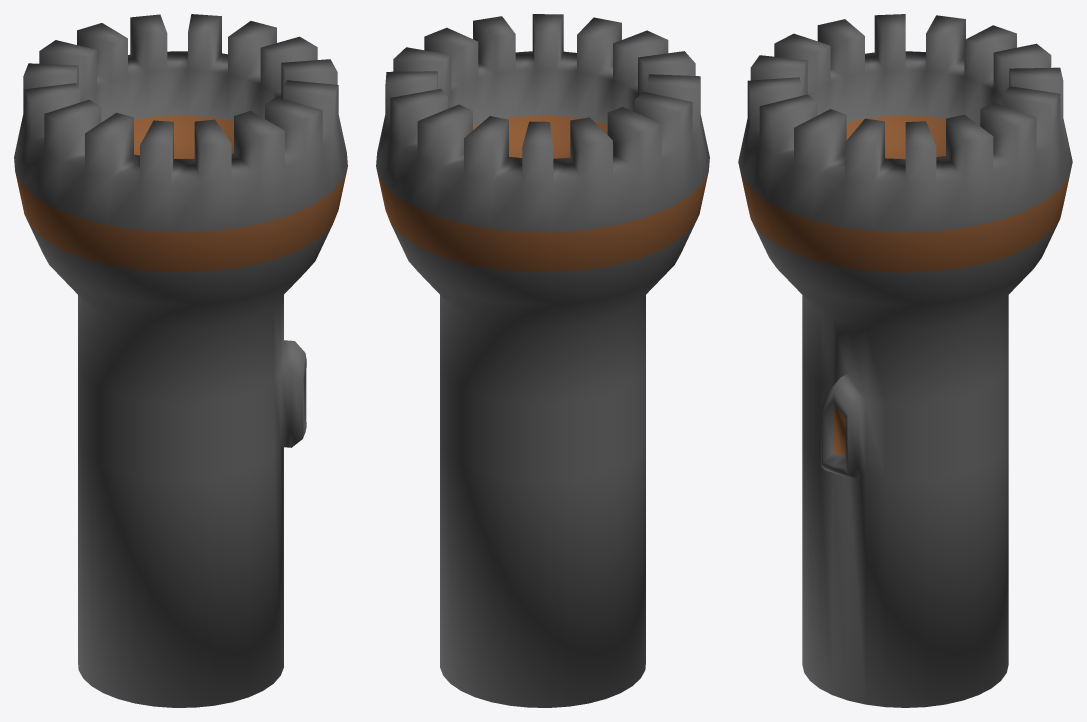
The model's file is tower.fbx.
3 renders of one model, left to right at view 1: azimuth 30°, elevation 25°; view 2: azimuth 150°, elevation 25°; view 3: azimuth 270°, elevation 25°, orthographic.
Visible parts, largest first — view 1: Cylinder; view 2: Cylinder; view 3: Cylinder.
Boxes of the visible parts, x1,y1,x2,y2 form: Cylinder: (14, 14, 347, 707); Cylinder: (376, 14, 709, 707); Cylinder: (738, 14, 1072, 707).
Size of the model in its own units: 1044 by 2022 by 1044.
